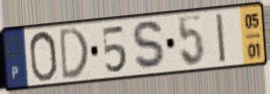5: (174, 12, 207, 69), (101, 23, 129, 75)
D: (58, 25, 90, 83)
I: (214, 11, 228, 66)
O: (27, 29, 59, 84)
S: (130, 19, 169, 73)
